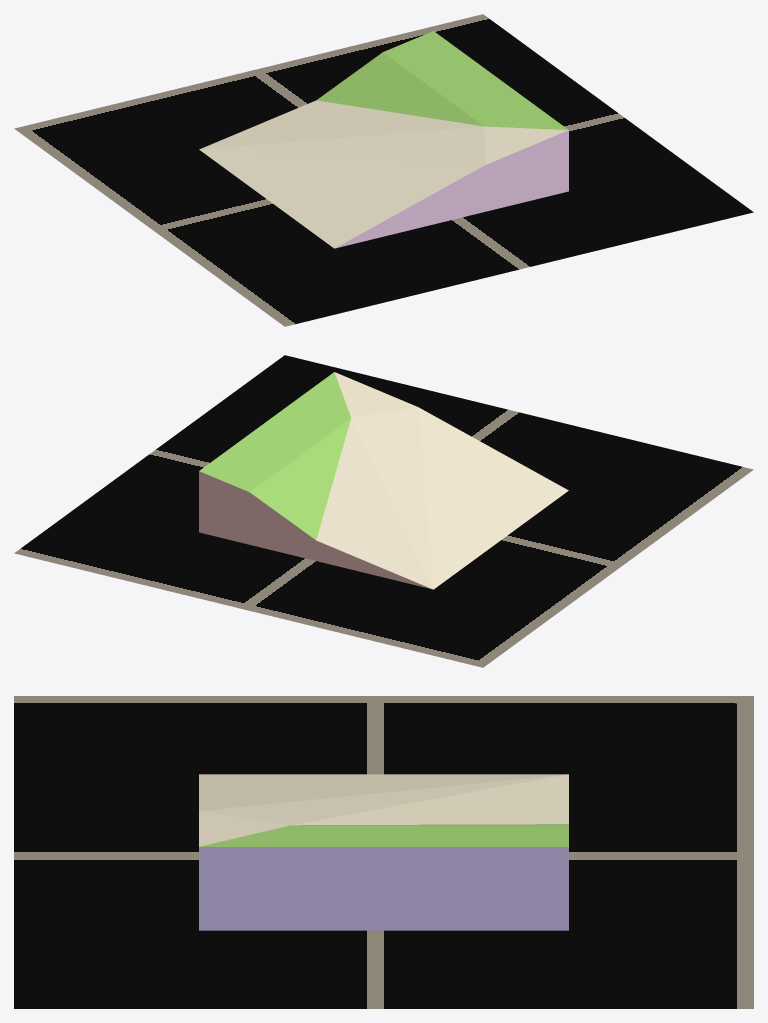
Rendered from Path_Terrain_Transition_Grass_Side_Straight_1x1.glb.
3 views of the same model, one above another, from view 1: azimuth 30°, elevation 25°; view 2: azimuth 150°, elevation 25°; view 3: azimuth 270°, elevation 25° (orthographic). The views are drawn at different scales.
Visible parts, largest first — view 1: Floor, Path_Terrain_Transition_Grass_Side_Straight_1x1; view 2: Floor, Path_Terrain_Transition_Grass_Side_Straight_1x1; view 3: Floor, Path_Terrain_Transition_Grass_Side_Straight_1x1.
Part boxes in pixels (x1,y1,x2,y2): Floor: [14, 14, 753, 326]; Path_Terrain_Transition_Grass_Side_Straight_1x1: [199, 31, 568, 248]; Floor: [14, 355, 753, 667]; Path_Terrain_Transition_Grass_Side_Straight_1x1: [199, 372, 568, 589]; Floor: [14, 696, 753, 1008]; Path_Terrain_Transition_Grass_Side_Straight_1x1: [199, 774, 568, 930].
Size of the model in its own units: 200 by 25 by 200.
Materials: 7 (1 with a texture image).
